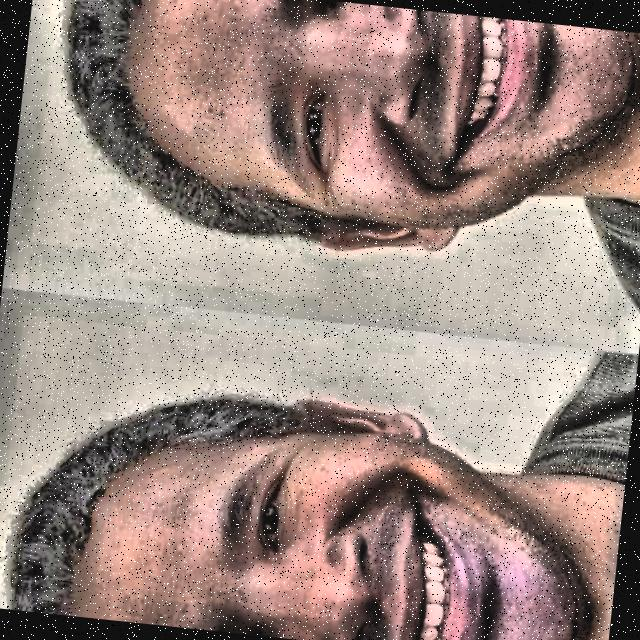happy: (1, 345, 611, 640)
